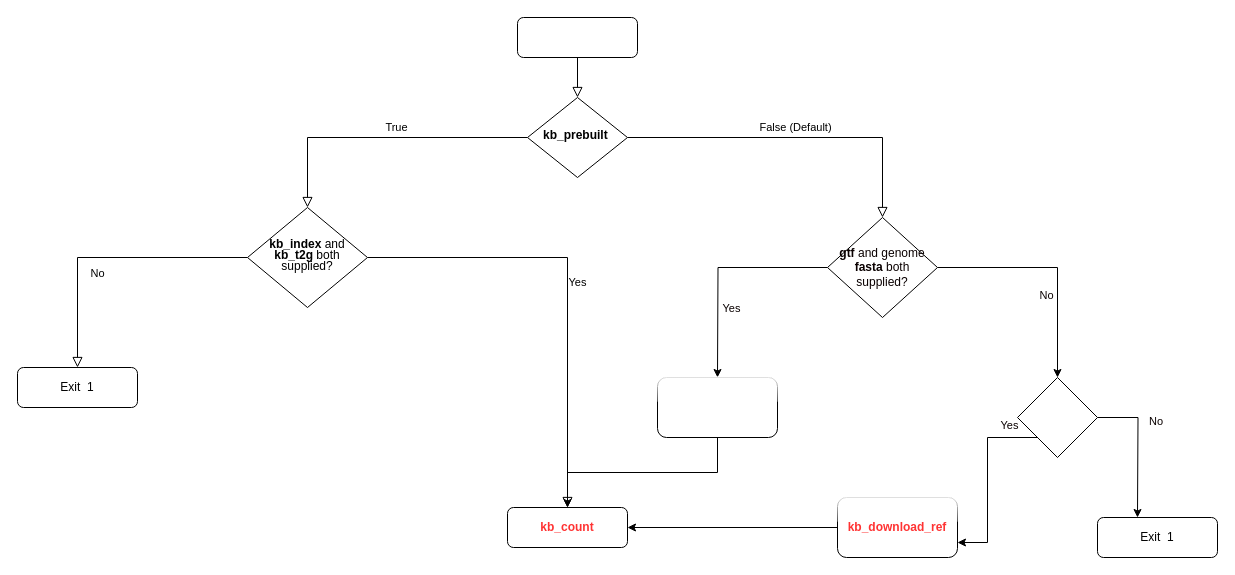
Some shapes in this 1235 by 575 pixel diagram are drawn without their labels. The centre of each missing label's shape, as x and y in pixels:
kb_build_index: point 717,407
species = human / mouse?: point 1057,417
Using "kb" aligner: point 577,37
